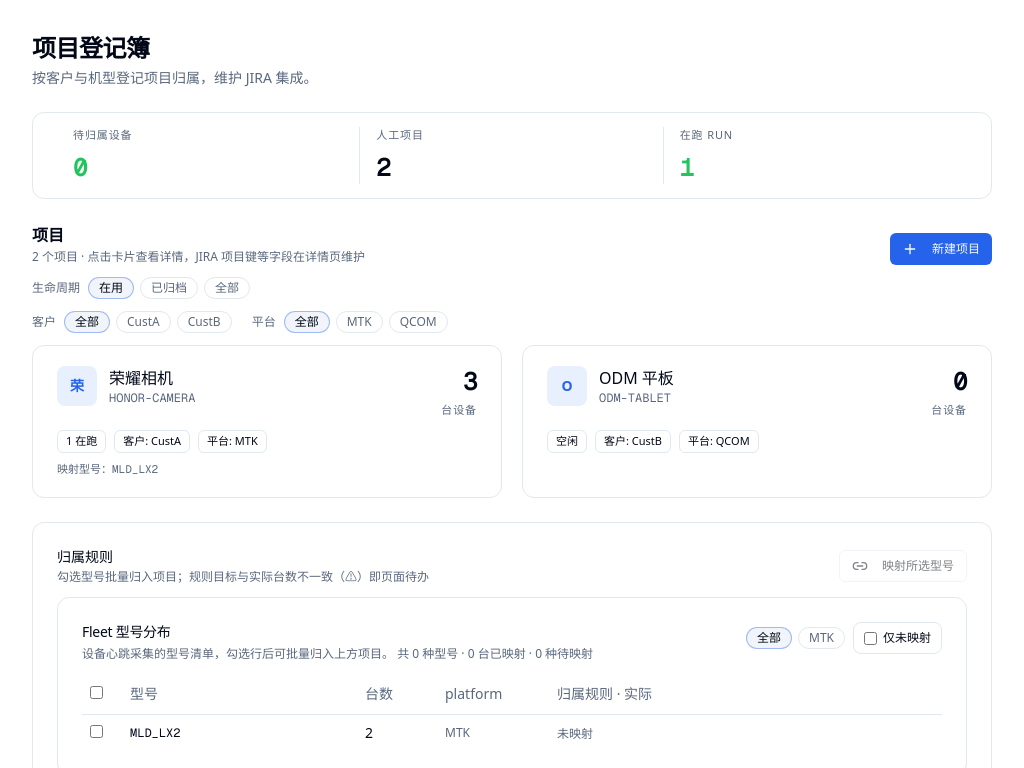
Test: ProjectsPage › warns when preview reports models unseen in fleet (#376)
Expected: the text "MLD_LX2" is shown, [122,714,357,750]
Click the checkbox with test id "inventory-model-check" at (96, 731), box [90,724,103,738]
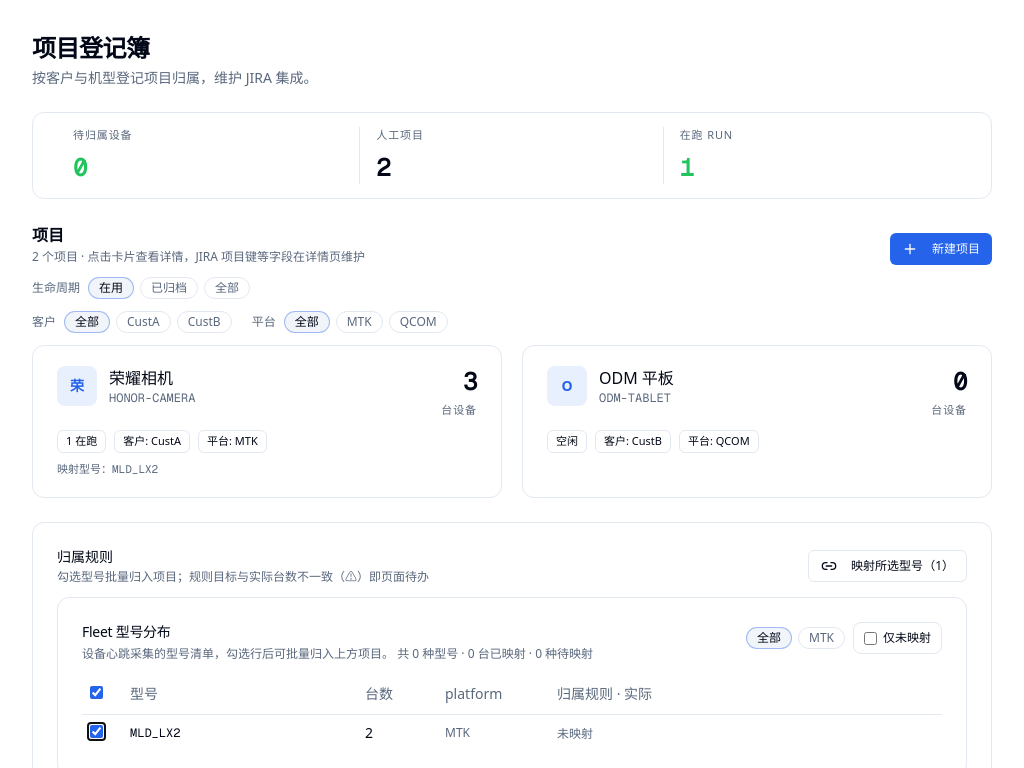
Click the button with test id "map-models-open" at (888, 566), box [808,550,967,582]
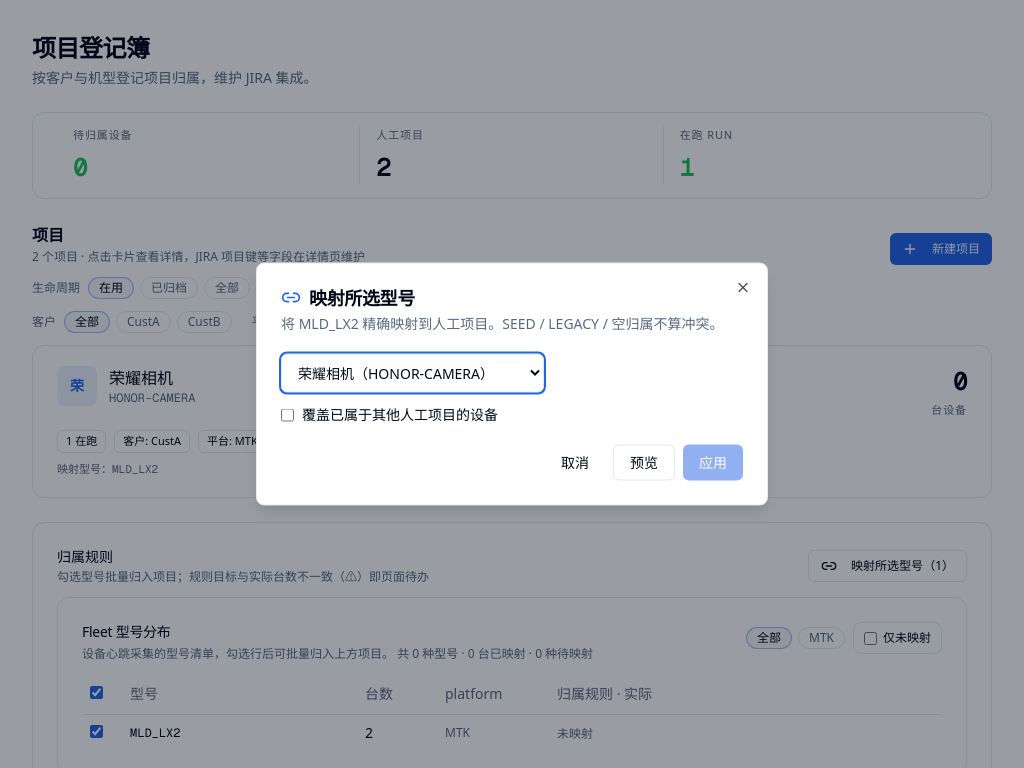
Click the button with test id "map-preview-btn" at (644, 462), box [613,444,675,480]
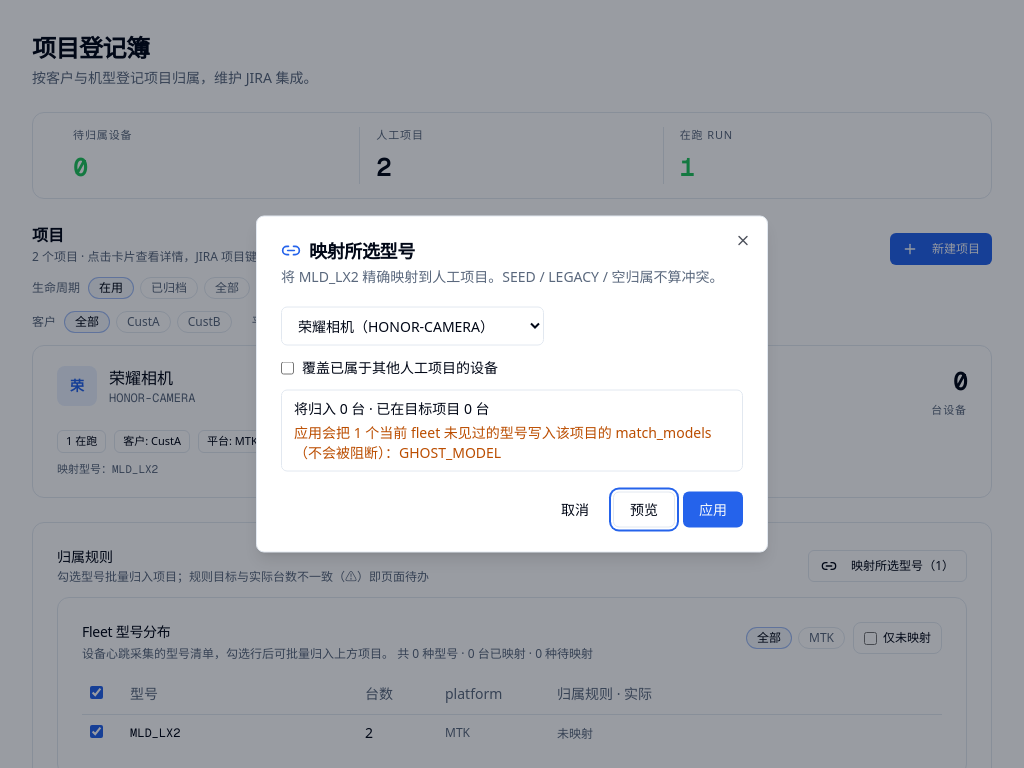
Now the text with test id "map-unknown-models" shows "GHOST_MODEL", box [399,442,501,462]
Now the text with test id "map-unknown-models" shows "match_models", box [294,422,712,462]
